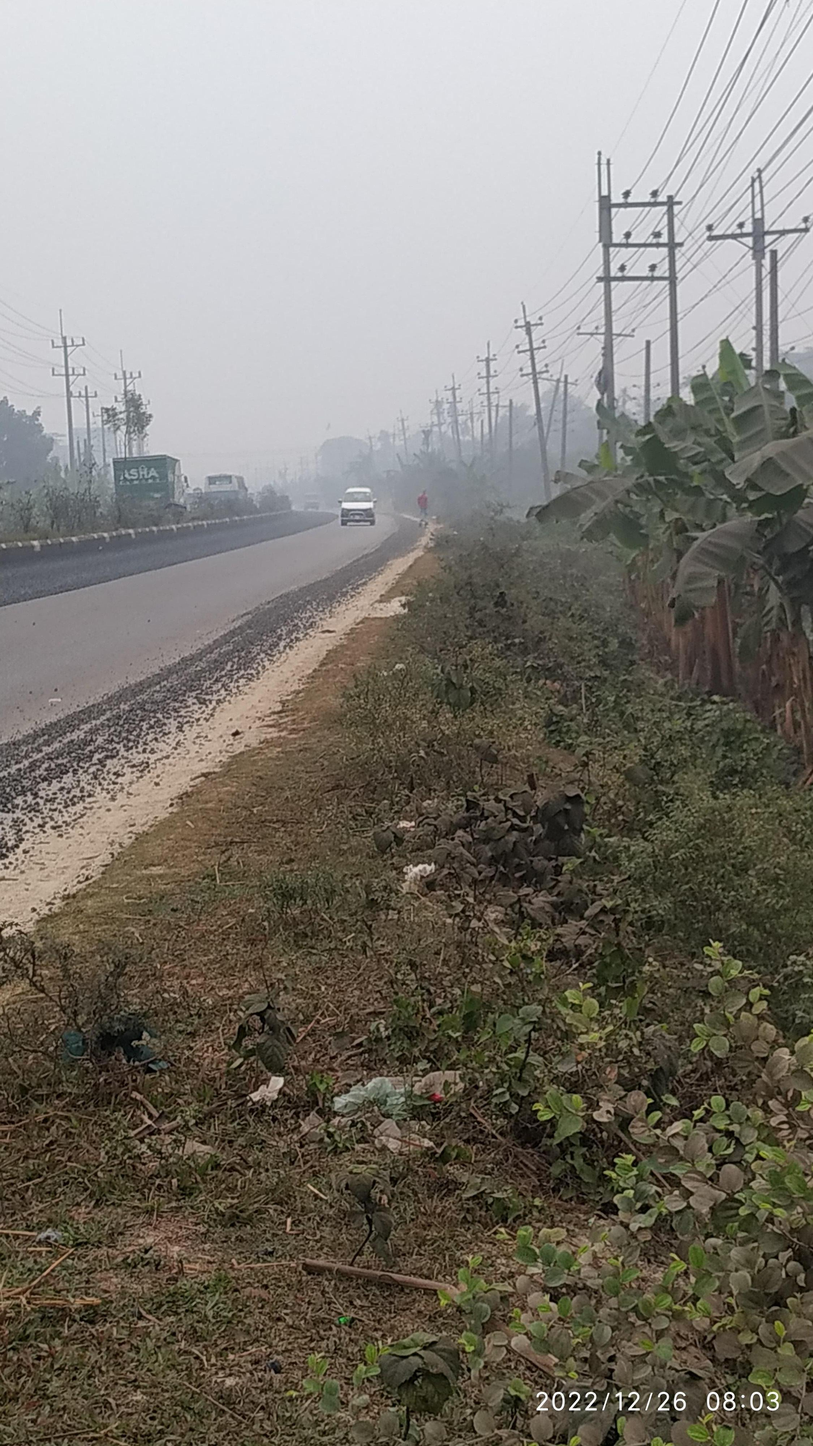Bus: (202, 464, 257, 518)
Car: (318, 473, 393, 553)
Truck: (102, 449, 197, 538)
